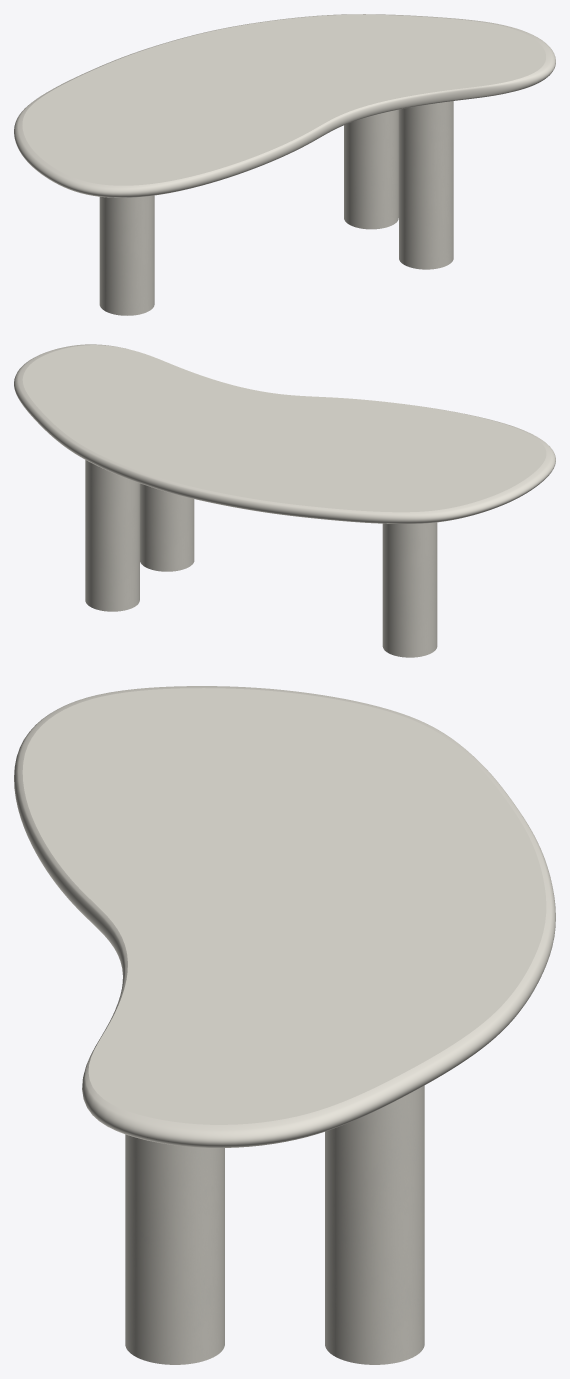
File: pale_leaf1_round_cylinder.glb
3 renders of one model, top to bottom at view 1: azimuth 30°, elevation 25°; view 2: azimuth 150°, elevation 25°; view 3: azimuth 270°, elevation 25°, orthographic. The views are drawn at different scales.
Parts seen in each view (by area): view 1: round_leaf1, cylinder; view 2: round_leaf1, cylinder; view 3: round_leaf1, cylinder.
Boxes of the visible parts, x1,y1,x2,y2 form: round_leaf1: [14, 14, 555, 197]; cylinder: [99, 101, 453, 315]; round_leaf1: [14, 344, 555, 523]; cylinder: [85, 460, 437, 657]; round_leaf1: [14, 686, 555, 1147]; cylinder: [125, 1085, 424, 1364].
Size of the model in its own units: 7.5 by 2.53 by 3.8.
1 material, 1 textured.
